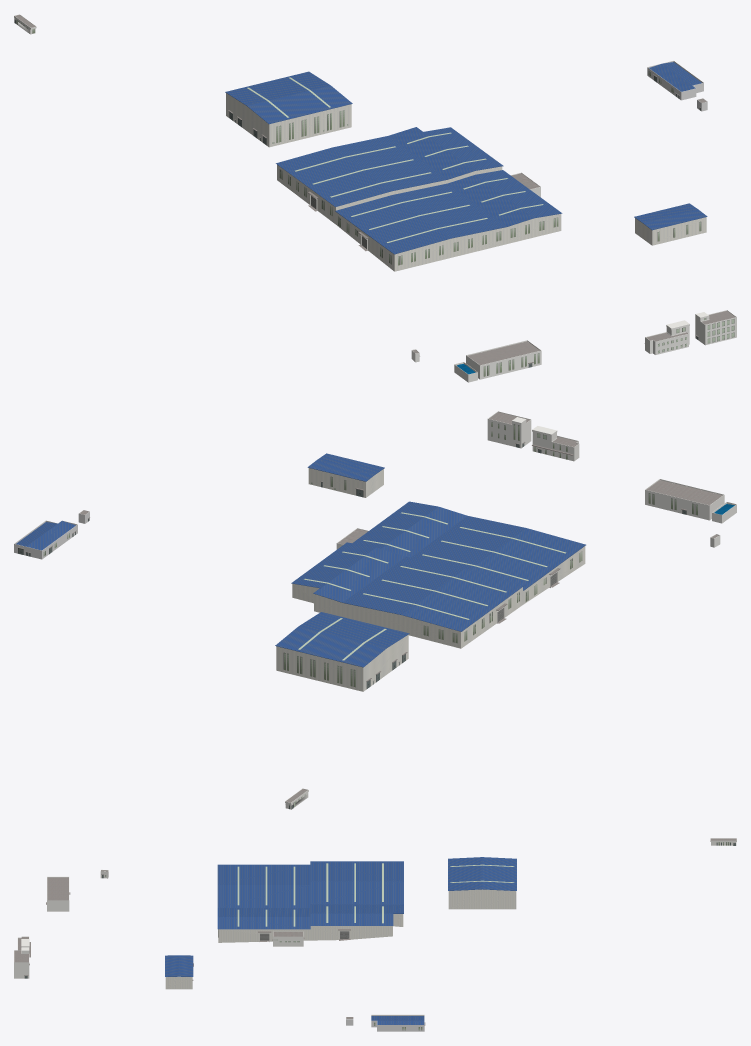
Rendered from 产线外房间.glb.
3 views of the same model, one above another, from view 1: azimuth 30°, elevation 25°; view 2: azimuth 150°, elevation 25°; view 3: azimuth 270°, elevation 25° (orthographic). The views are drawn at different scales.
Visible parts, largest first — view 1: CJ-DSC-002, CJ-JZTLJ, CJ-BJJ, CJ-SBF, CJ-XFZ, CJ-KF-001, CJ-KF-002; view 2: CJ-DSC-002, CJ-JZTLJ, CJ-BJJ, CJ-SBF, CJ-XFZ, CJ-KF-001, CJ-KF-002; view 3: CJ-DSC-002, CJ-JZTLJ, CJ-BJJ, CJ-XFZ, CJ-SBF, CJ-DQS, CJ-KF-001.
Part boxes in pixels (box(x1,y1,x2,y2)): CJ-DSC-002: box(276, 127, 562, 271); CJ-JZTLJ: box(225, 71, 352, 147); CJ-BJJ: box(634, 203, 707, 245); CJ-SBF: box(466, 340, 541, 379); CJ-XFZ: box(647, 60, 703, 100); CJ-KF-001: box(695, 310, 736, 345); CJ-KF-002: box(644, 320, 689, 354); CJ-DSC-002: box(291, 501, 585, 648); CJ-JZTLJ: box(275, 612, 409, 691); CJ-BJJ: box(307, 453, 384, 497); CJ-SBF: box(645, 479, 724, 520); CJ-XFZ: box(14, 520, 77, 559); CJ-KF-001: box(487, 411, 531, 448); CJ-KF-002: box(532, 426, 579, 461); CJ-DSC-002: box(217, 861, 403, 942); CJ-JZTLJ: box(448, 857, 516, 909); CJ-BJJ: box(165, 955, 193, 989); CJ-XFZ: box(371, 1014, 425, 1031); CJ-SBF: box(46, 876, 70, 911); CJ-DQS: box(272, 931, 304, 946); CJ-KF-001: box(14, 947, 29, 978).
Size of the model in its own units: 357 by 44.9 by 613.
30 materials, 22 textured.
